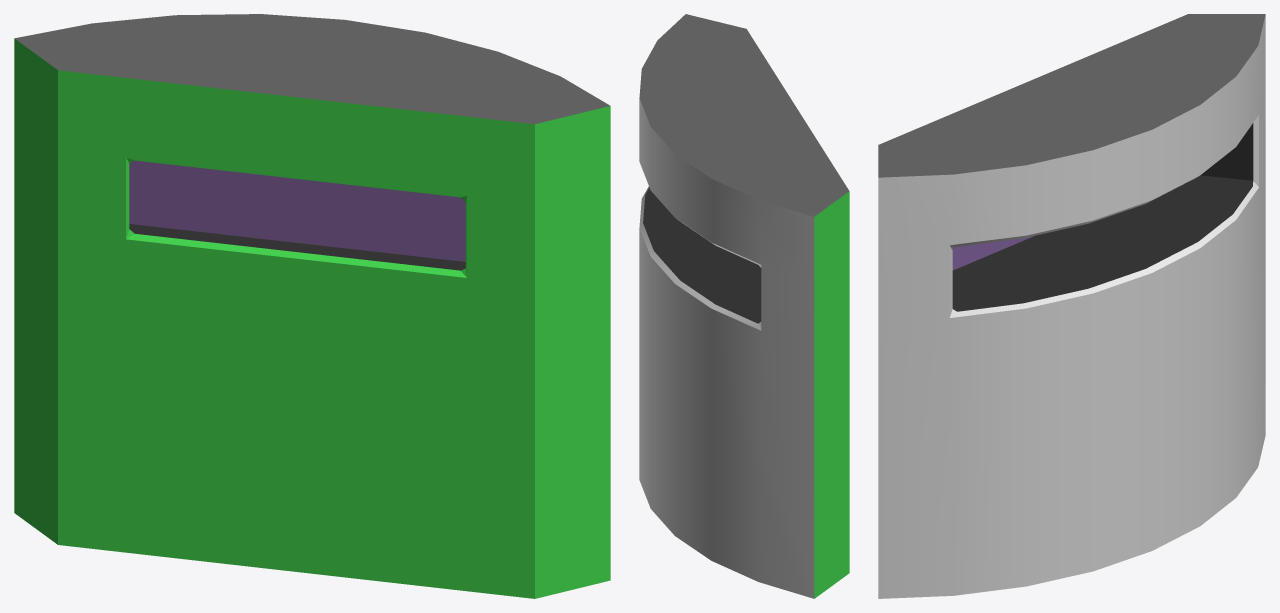
Rendered from Wall_Simple_RoundCorner00b.fbx.
3 views of the same model, side by side, from view 1: azimuth 30°, elevation 25°; view 2: azimuth 150°, elevation 25°; view 3: azimuth 270°, elevation 25° (orthographic). The views are drawn at different scales.
Parts seen in each view (by area): view 1: Wall_Simple_RoundCorner00b; view 2: Wall_Simple_RoundCorner00b; view 3: Wall_Simple_RoundCorner00b.
Boxes of the visible parts, box(x1,y1,x2,y2) form: Wall_Simple_RoundCorner00b: box(14, 14, 610, 598); Wall_Simple_RoundCorner00b: box(639, 14, 849, 598); Wall_Simple_RoundCorner00b: box(878, 14, 1265, 598).
Bounding box in the file's own units: 250 × 300 × 250.
